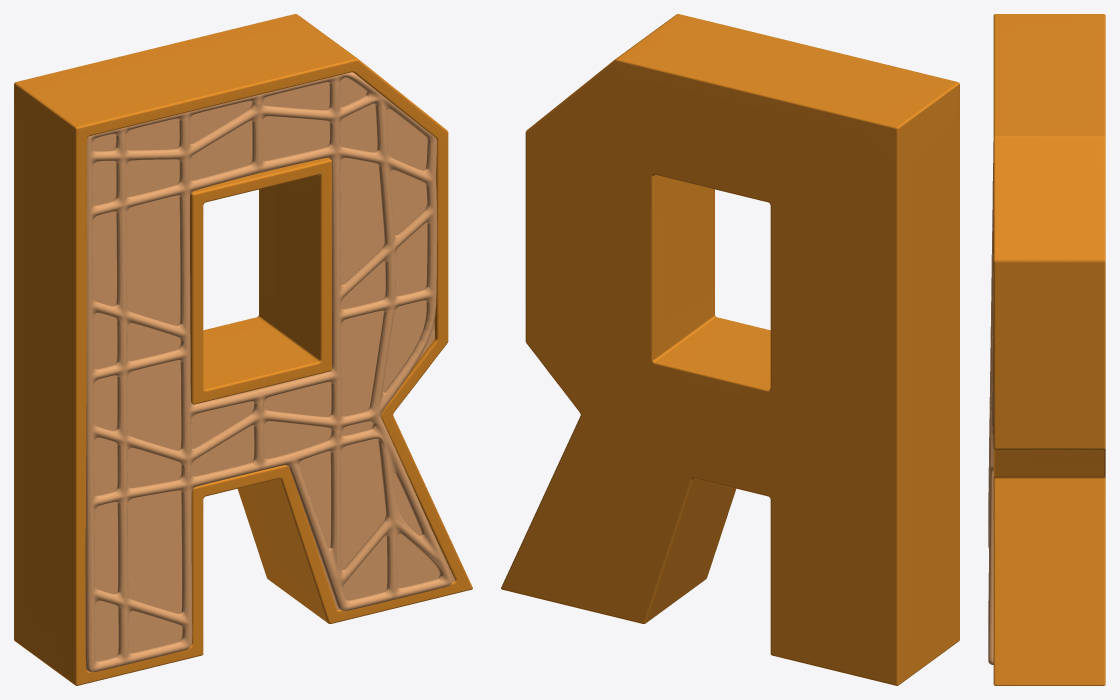
The picture shows the model from 3 angles, left to right: view 1: azimuth 30°, elevation 25°; view 2: azimuth 150°, elevation 25°; view 3: azimuth 270°, elevation 25°; orthographic projection. The views are drawn at different scales.
Visible parts, largest first — view 1: Text.018, Plane.020, Plane.062; view 2: Text.018; view 3: Text.018, Plane.062.
Boxes of the visible parts, x1,y1,x2,y2 form: Text.018: (14, 14, 472, 685); Plane.020: (92, 77, 455, 661); Plane.062: (85, 72, 452, 672); Text.018: (501, 14, 959, 685); Text.018: (993, 14, 1105, 685); Plane.062: (988, 142, 993, 664).
Size of the model in its own units: 2.95 by 3.96 by 0.8448.
